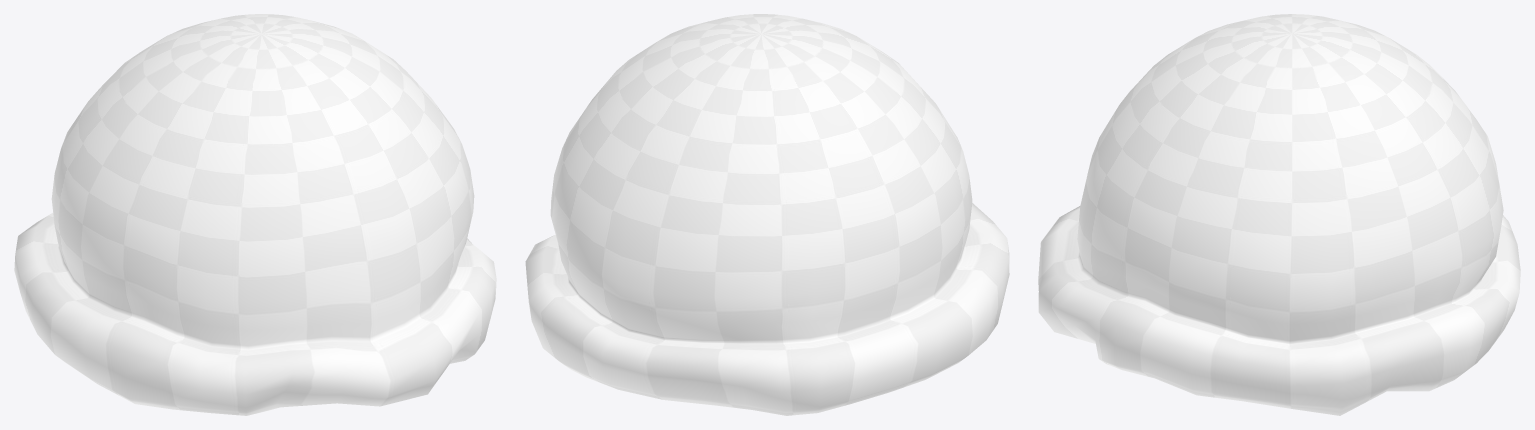
The model's file is scoop-init.gltf.
3 renders of one model, left to right at view 1: azimuth 30°, elevation 25°; view 2: azimuth 150°, elevation 25°; view 3: azimuth 270°, elevation 25°, orthographic. The views are drawn at different scales.
Parts seen in each view (by area): view 1: Scoop; view 2: Scoop; view 3: Scoop.
Part boxes in pixels (bbox=[...]): Scoop: bbox=[14, 14, 496, 415]; Scoop: bbox=[525, 14, 1009, 415]; Scoop: bbox=[1038, 14, 1520, 415].
Size of the model in its own units: 1.33 by 0.9831 by 1.38.
1 material, 1 textured.
